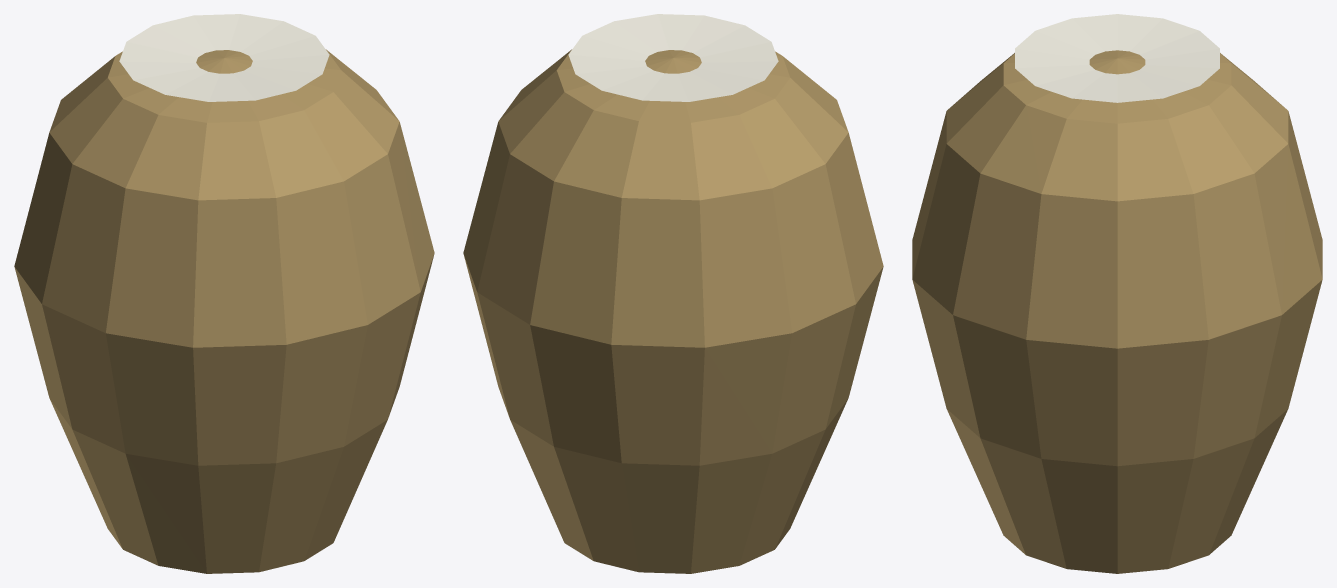
File: flour_sack.obj
3 views of the same model, side by side, from view 1: azimuth 30°, elevation 25°; view 2: azimuth 150°, elevation 25°; view 3: azimuth 270°, elevation 25° (orthographic).
Visible parts, largest first — view 1: flour_sack; view 2: flour_sack; view 3: flour_sack.
Boxes of the visible parts, left/top/right/bottom form: flour_sack: left=14, top=14, right=434, bottom=573; flour_sack: left=463, top=14, right=883, bottom=573; flour_sack: left=912, top=14, right=1322, bottom=573.
Size of the model in its own units: 0.72 by 0.88 by 0.702.
